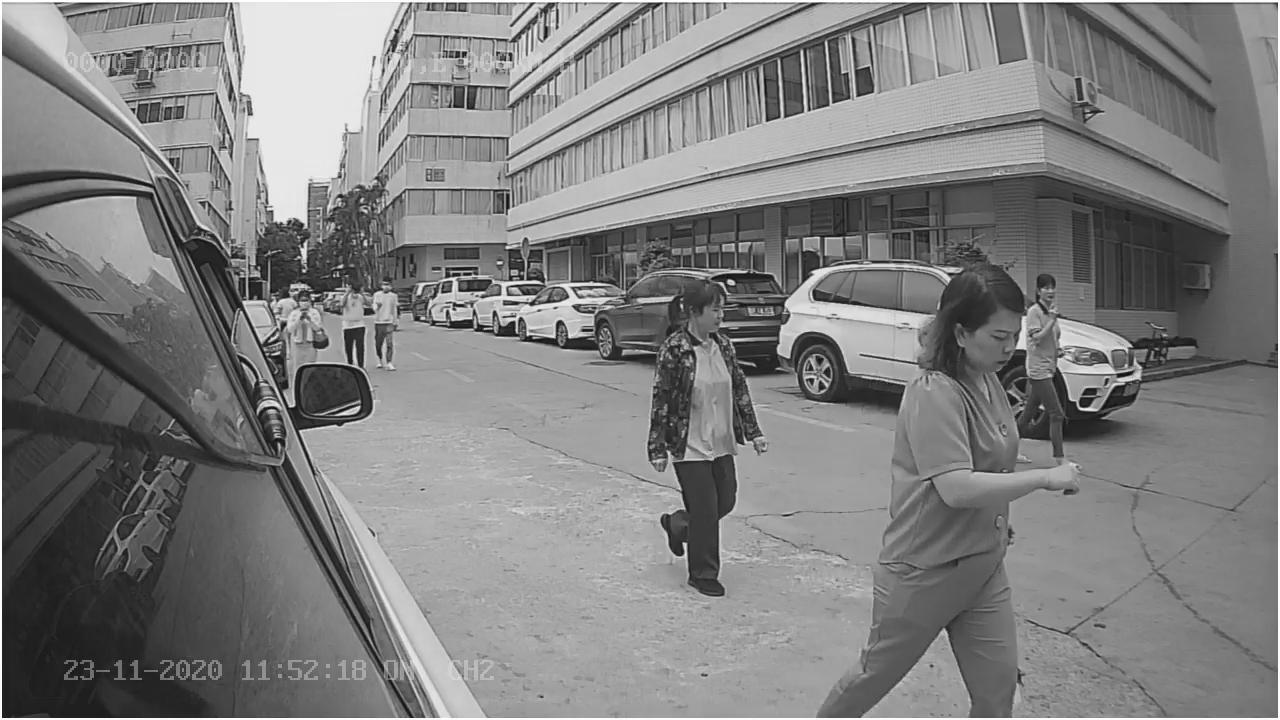person: (887, 260, 1035, 710), (656, 271, 760, 600)
